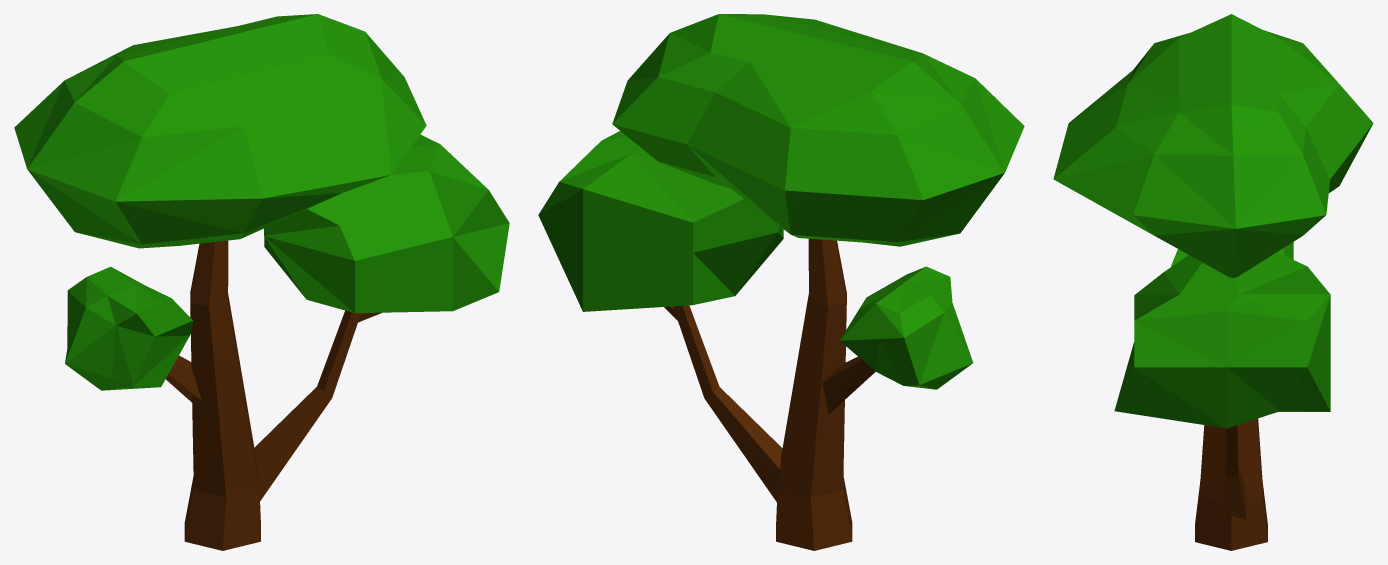
File: Tree_temp_climate_002.FBX
The picture shows the model from 3 angles, left to right: view 1: azimuth 30°, elevation 25°; view 2: azimuth 150°, elevation 25°; view 3: azimuth 270°, elevation 25°; orthographic projection. The views are drawn at different scales.
Visible parts, largest first — view 1: Tree_temp_climate_002; view 2: Tree_temp_climate_002; view 3: Tree_temp_climate_002.
Part boxes in pixels (bbox=[...]): Tree_temp_climate_002: bbox=[14, 14, 509, 550]; Tree_temp_climate_002: bbox=[538, 14, 1024, 550]; Tree_temp_climate_002: bbox=[1053, 14, 1373, 550].
Size of the model in its own units: 406 by 448 by 275.
